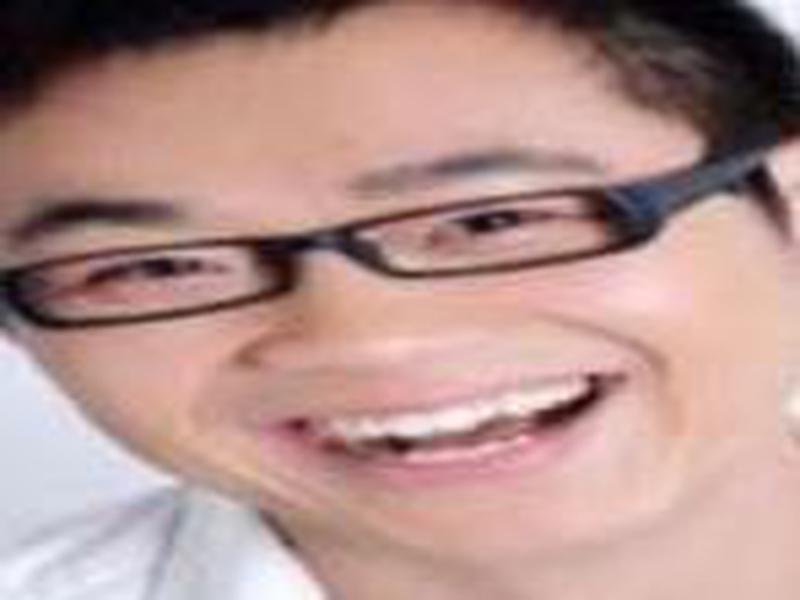without_mask: (7, 21, 787, 548)
